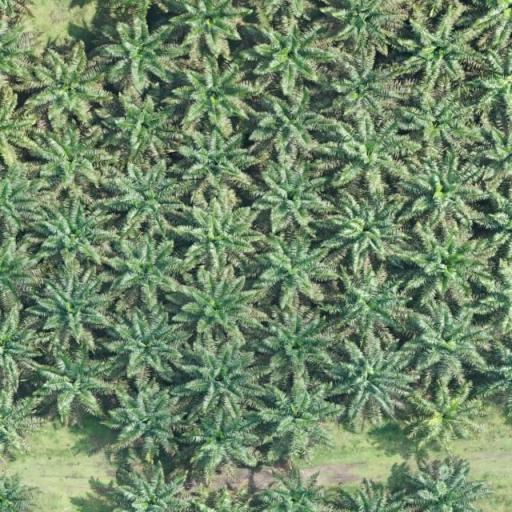Ganoderma: (424, 396, 466, 437)
